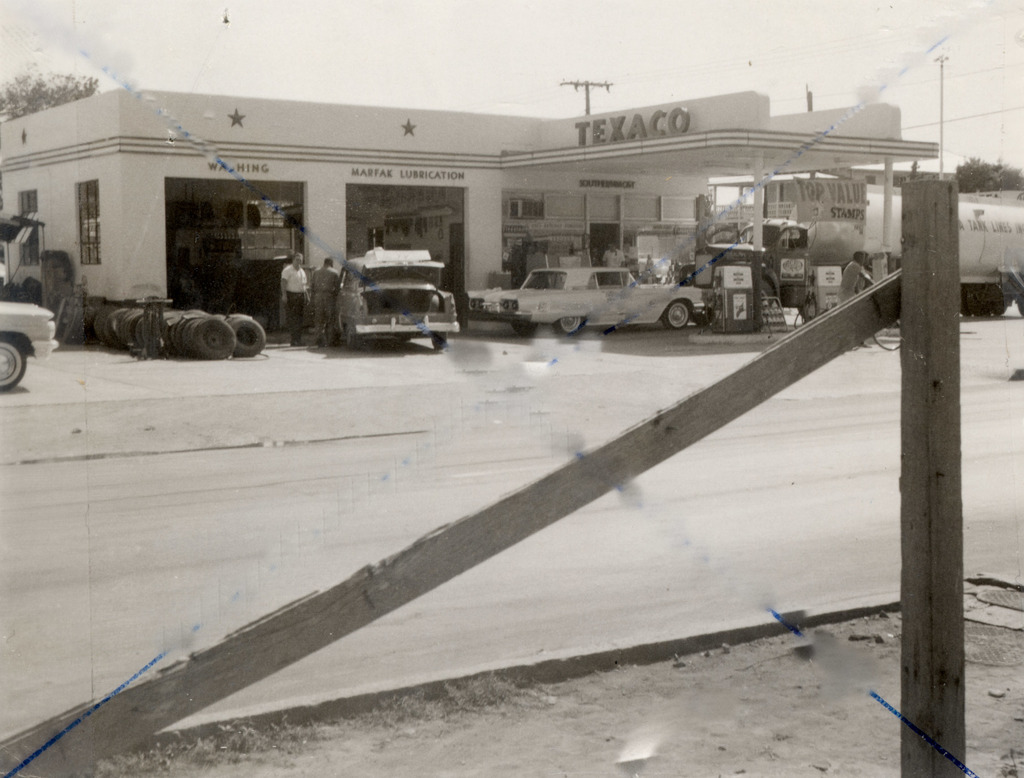Car: (471, 266, 711, 337), (337, 242, 460, 351), (0, 294, 54, 387)
